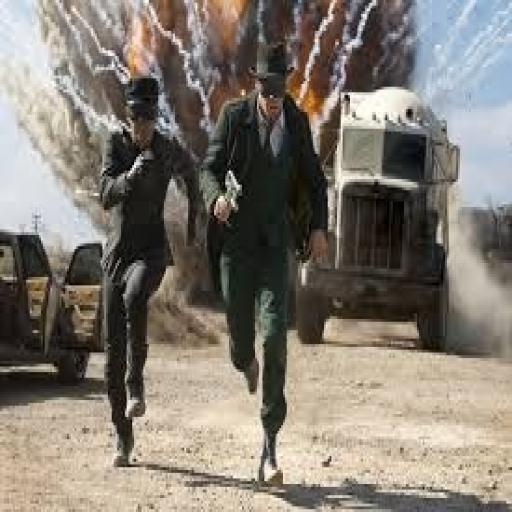running: (198, 40, 332, 492), (95, 70, 203, 470)
